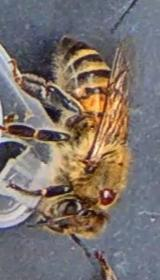varroa_mite: (89, 180, 128, 212)
